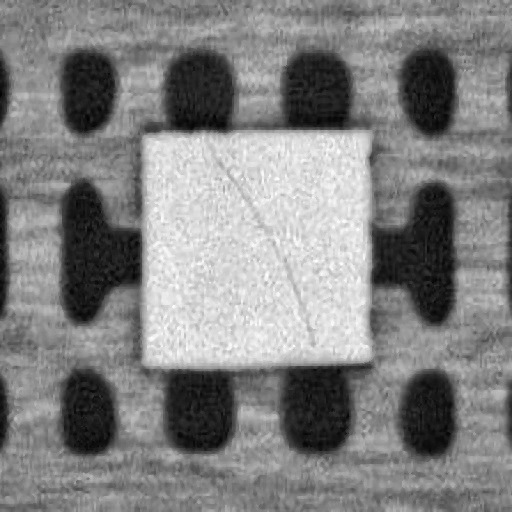DIE_CRACK: (204, 138, 315, 345)
